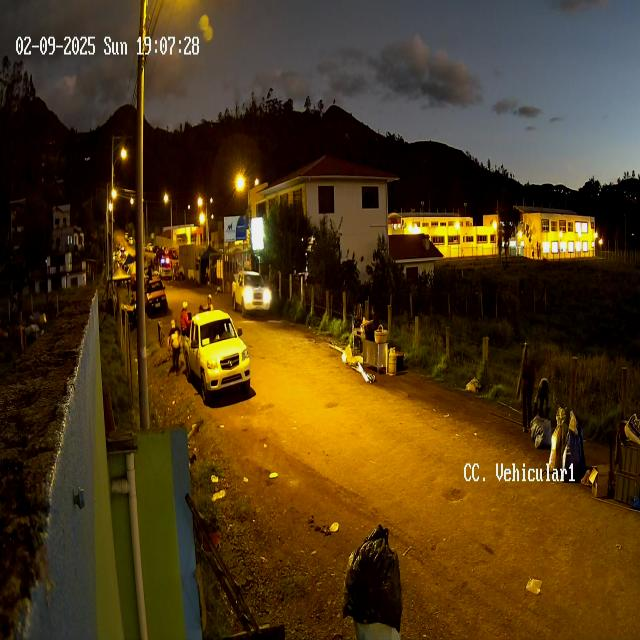CMT: (181, 310, 250, 402)
